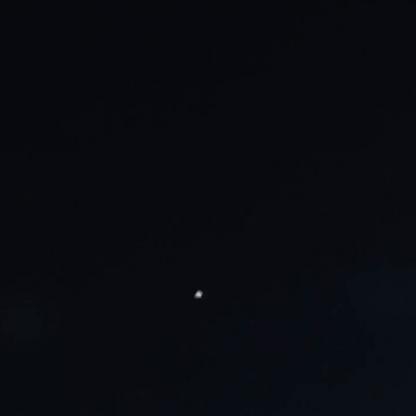ball: (186, 282, 210, 304)
